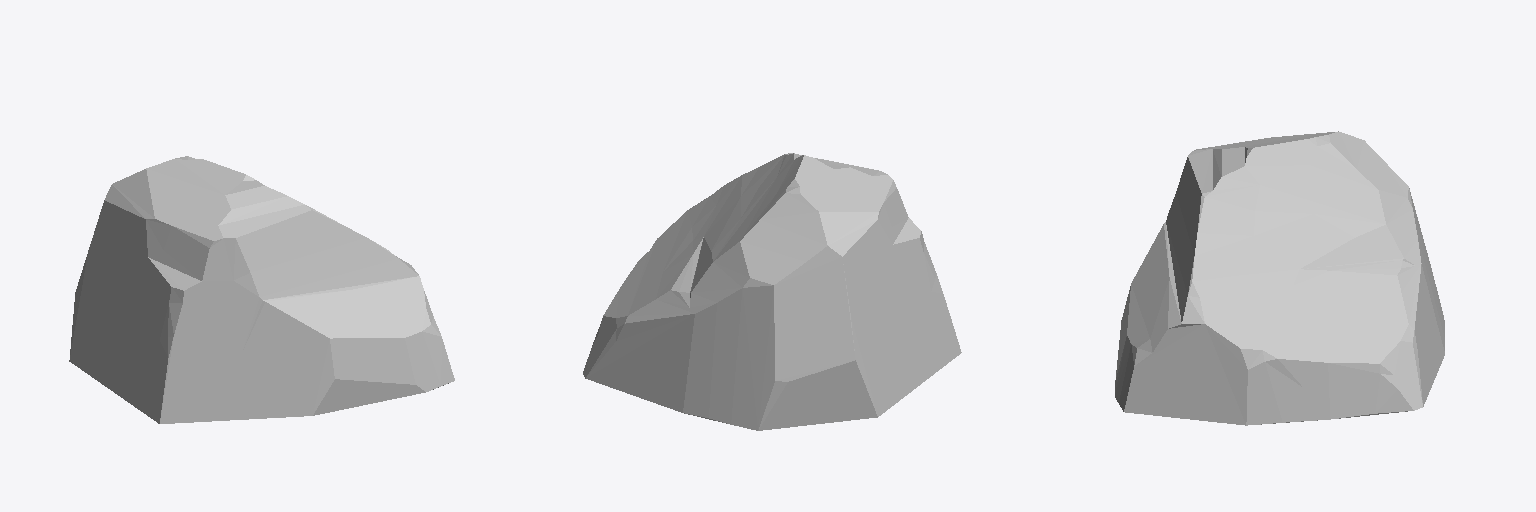
The model's file is rock_05.obj.
3 views of the same model, side by side, from view 1: azimuth 30°, elevation 25°; view 2: azimuth 150°, elevation 25°; view 3: azimuth 270°, elevation 25° (orthographic).
Visible parts, largest first — view 1: rock_04; view 2: rock_04; view 3: rock_04.
Boxes of the visible parts, box(x1,y1,x2,y2) form: rock_04: box(69, 156, 454, 423); rock_04: box(583, 153, 961, 430); rock_04: box(1115, 131, 1444, 425).
Size of the model in its own units: 3.3 by 2.07 by 3.19.